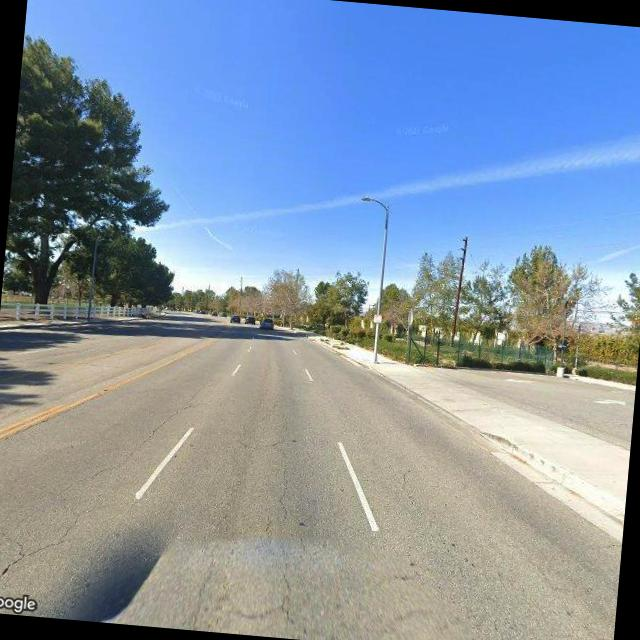pothole: (87, 384, 197, 488), (0, 501, 90, 596), (264, 440, 298, 531)
